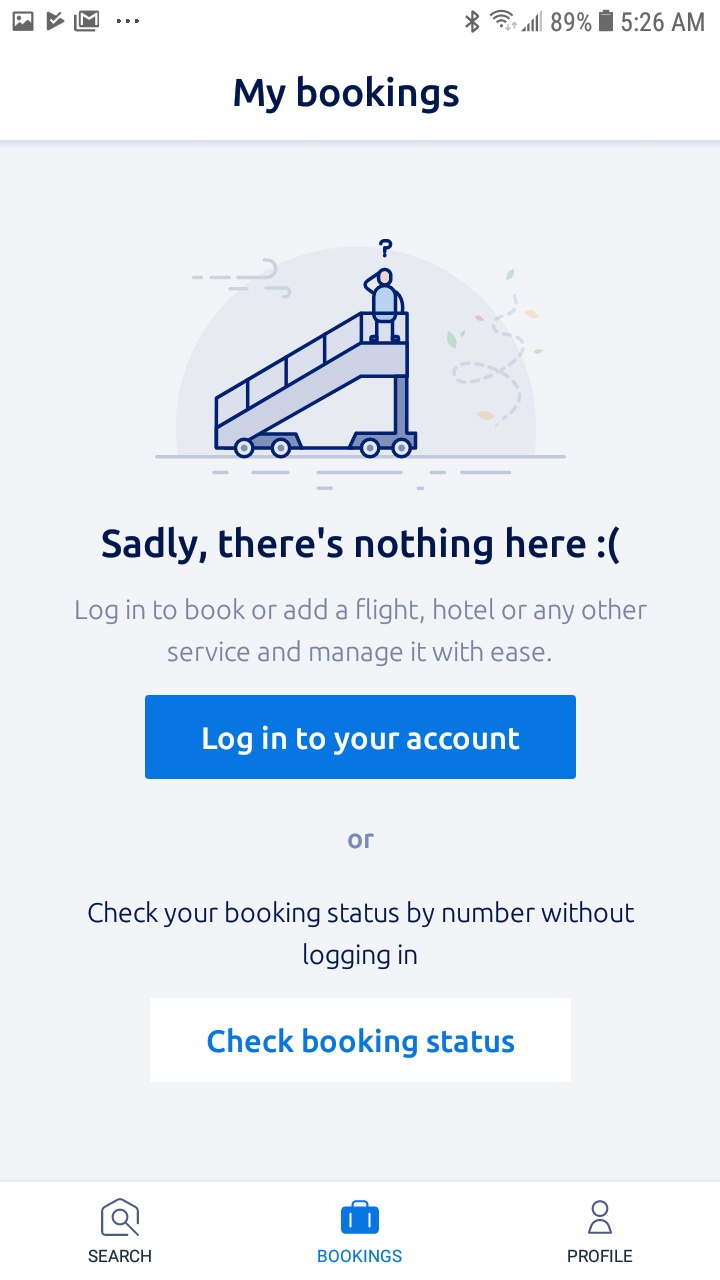Icon: (101, 1197, 141, 1237), (341, 1199, 380, 1235), (588, 1199, 613, 1235)
Image: (155, 239, 567, 492)
Text: (76, 598, 648, 668), (88, 901, 635, 970), (102, 526, 622, 566), (234, 76, 460, 115), (318, 1249, 403, 1263), (567, 1249, 633, 1263), (89, 1249, 153, 1263), (348, 833, 375, 849)
TextButton: (145, 695, 577, 780), (150, 998, 571, 1082)
UpperTaskBar: (1, 1, 720, 35)
